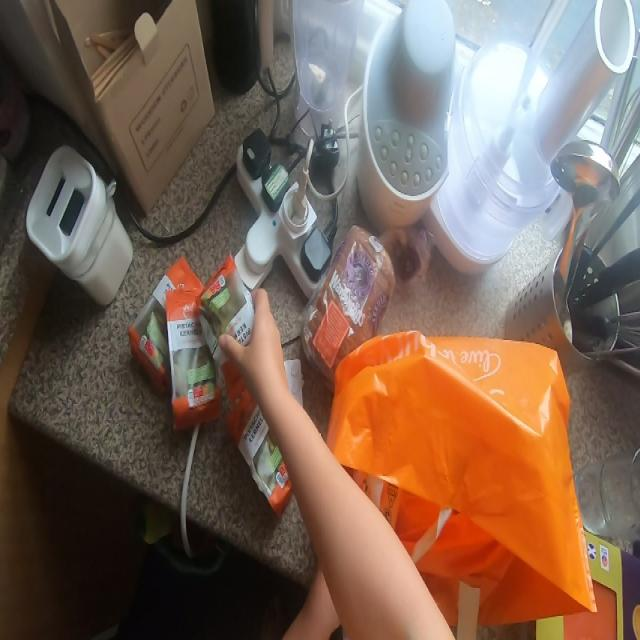plastic bag: (332, 344, 595, 618)
right hand: (215, 273, 298, 440)
